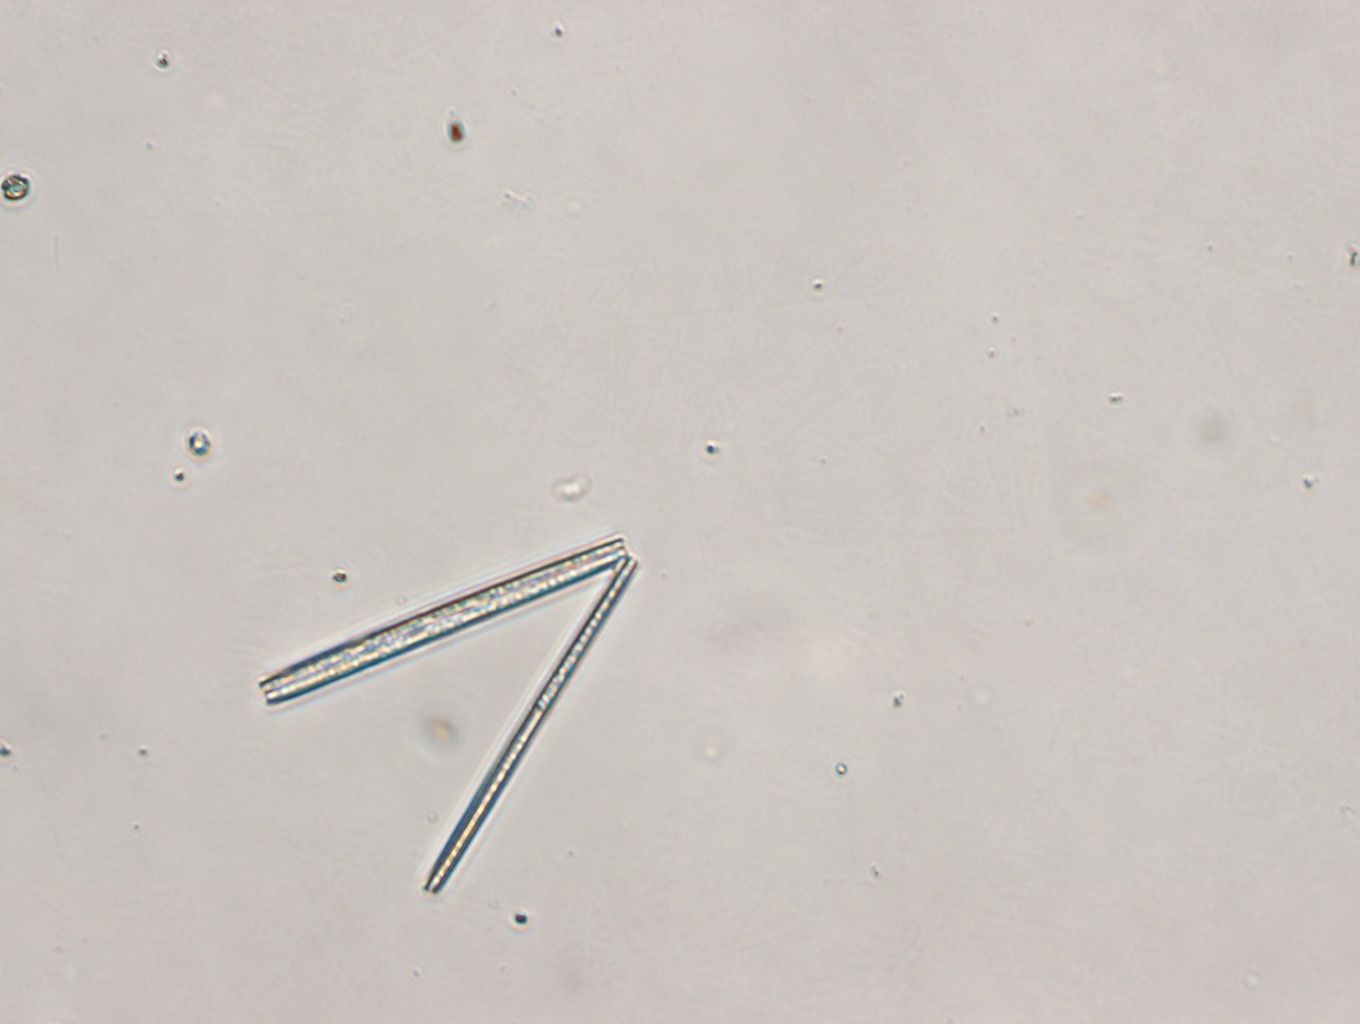thalassionema frauenfeldii: (254, 531, 652, 895)
